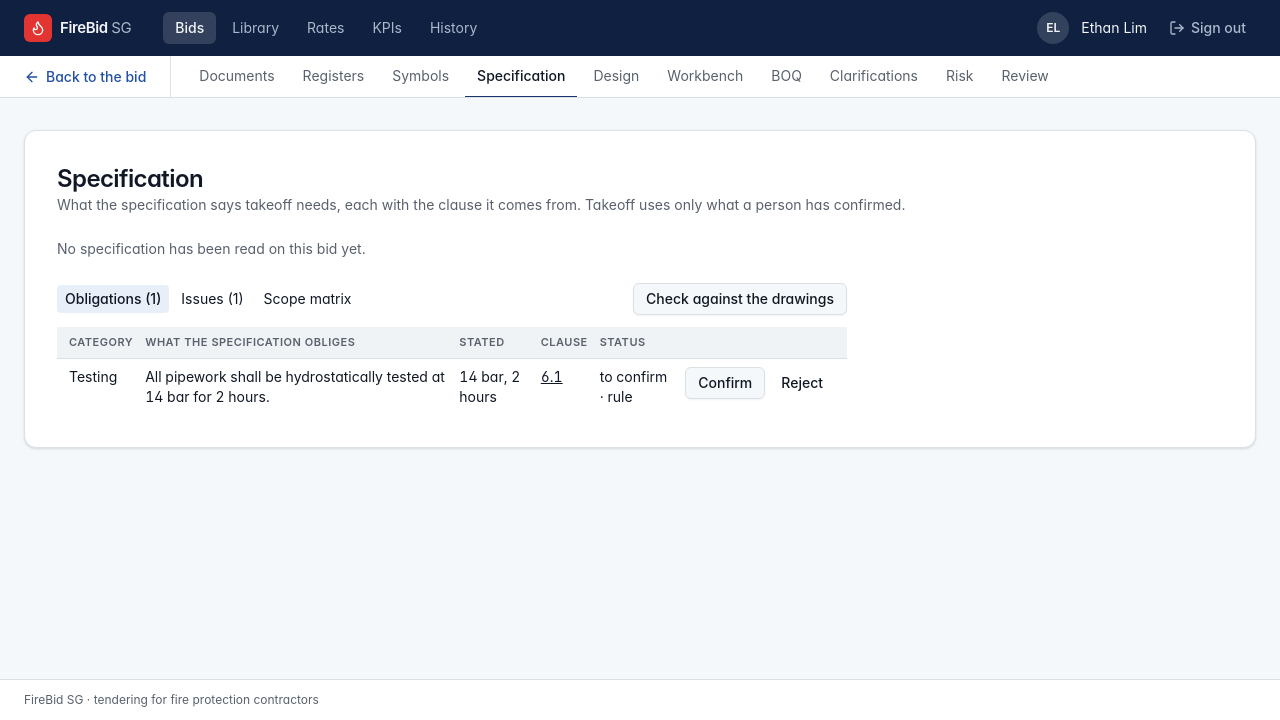
Test case: the specification analysis › lists each obligation with what it states, one click from its clause
The width and height of the screenshot is (1280, 720).
expect the text "testing" is shown: met, box [57,358,145,415]
expect the text "14 bar, 2 hours" is shown: met, box [459,358,541,415]
Click the button "6.1".
click(552, 377)  # box [541,367,563,387]
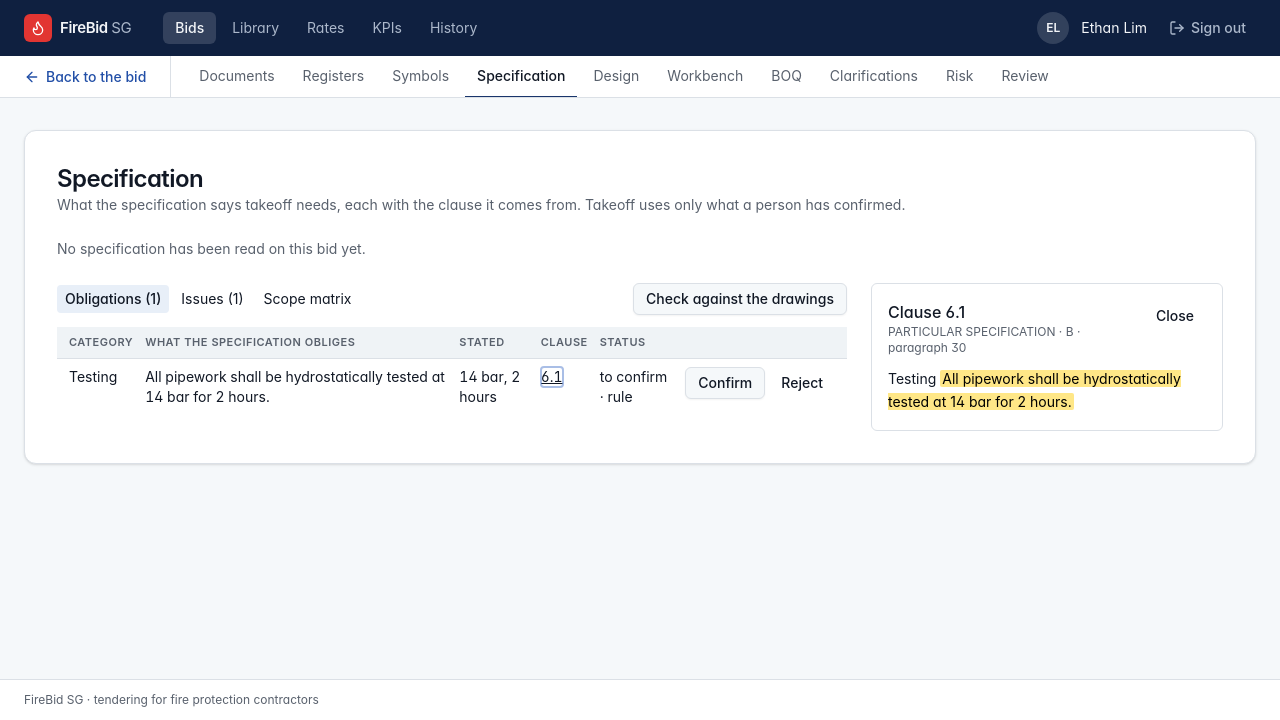
expect the text "All pipework shall be hydrostatically tested at 14 bar for 2 hours." is shown: met, box [888,370,1181,410]
